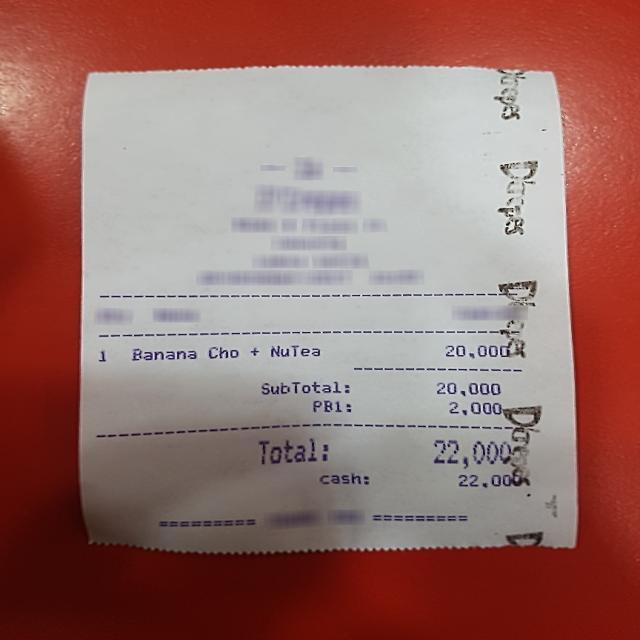kertas: (75, 63, 578, 554)
